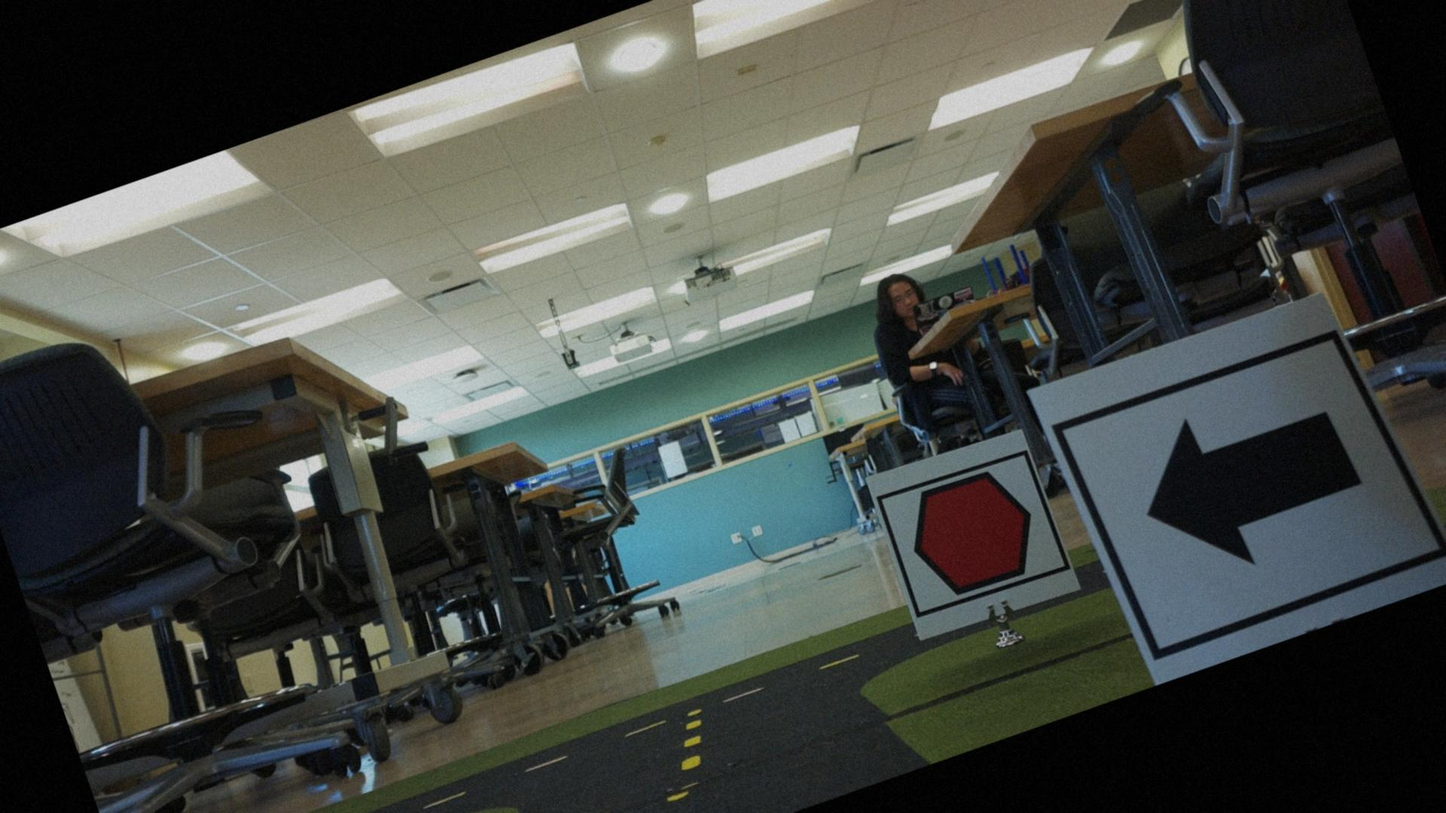stop: (873, 448, 1066, 621)
turnright: (1084, 333, 1418, 650)
yellowline: (624, 715, 737, 812)
